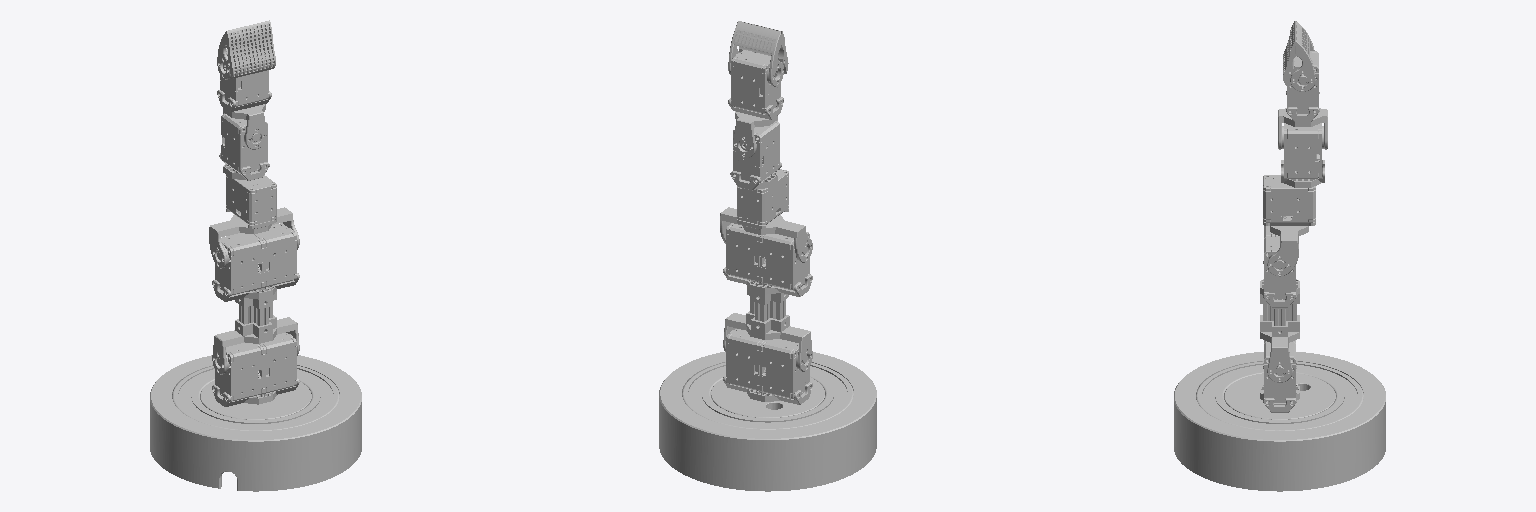
The robot description file, URDF, robot "clsrobo_63430":
<?xml version="1.0" ?>
<robot name="clsrobo_63430" xmlns:xacro="http://www.ros.org/wiki/xacro">

    <material name="silver">
        <color rgba="0.8 0.8 0.8 1.000"/>
    </material>

    <!-->Link Tags Go Here<-->
    
<link name="0_link">
        <inertial>
            <origin rpy="0 0 0" xyz="0.00003821186809 -0.00030983086283 0.01875604321375"/>
            <mass value="2.07110000000000"/>
            <inertia ixx="3.64188928305714" ixy="0.00000514769757" ixz="0.00000085409818" iyy="3.64187376134656" iyz="0.00000286492593" izz="0.01059796903767"/>
        </inertial>
        <visual>
            <origin rpy="0 0 0" xyz="0 0 0"/>
            <geometry>
                <mesh filename="package://clsrobo_63430_description/meshes/0_link.stl" scale="0.001 0.001 0.001"/>
            </geometry>
            <material name="silver"/>
        </visual>
        <collision>
            <origin rpy="0 0 0" xyz="0 0 0"/>
            <geometry>
                <mesh filename="package://clsrobo_63430_description/meshes/0_link.stl" scale="0.001 0.001 0.001"/>
            </geometry>
        </collision>
    </link>

<link name="1_link">
        <inertial>
            <origin rpy="0 0 0" xyz="0.00012843477802 -0.00014275664176 0.02077775078681"/>
            <mass value="0.22750000000000"/>
            <inertia ixx="0.00019717203900" ixy="-0.00000059205455" ixz="0.00000047245861" iyy="0.00024035701003" iyz="-0.00000052463206" izz="0.00022140776924"/>
        </inertial>
        <visual>
            <origin rpy="0 0 0" xyz="0 0 0"/>
            <geometry>
                <mesh filename="package://clsrobo_63430_description/meshes/1_link.stl" scale="0.001 0.001 0.001"/>
            </geometry>
            <material name="silver"/>
        </visual>
        <collision>
            <origin rpy="0 0 0" xyz="0 0 0"/>
            <geometry>
                <mesh filename="package://clsrobo_63430_description/meshes/1_link.stl" scale="0.001 0.001 0.001"/>
            </geometry>
        </collision>
    </link>

<link name="2_link">
        <inertial>
            <origin rpy="0 0 0" xyz="-0.00000682615862 0.00000000000000 0.07920366986365"/>
            <mass value="0.15775300000000"/>
            <inertia ixx="0.00013008037684" ixy="-0.00000000491200" ixz="-0.00000006213944" iyy="0.00017880546963" iyz="0.00000000000000" izz="0.00006939609280"/>
        </inertial>
        <visual>
            <origin rpy="0 0 0" xyz="0 0 0"/>
            <geometry>
                <mesh filename="package://clsrobo_63430_description/meshes/2_link.stl" scale="0.001 0.001 0.001"/>
            </geometry>
            <material name="silver"/>
        </visual>
        <collision>
            <origin rpy="0 0 0" xyz="0 0 0"/>
            <geometry>
                <mesh filename="package://clsrobo_63430_description/meshes/2_link.stl" scale="0.001 0.001 0.001"/>
            </geometry>
        </collision>
    </link>

<link name="3_link">
        <inertial>
            <origin rpy="0 0 0" xyz="0.00000000000000 0.00830129699094 0.04294565077099"/>
            <mass value="0.07075300000000"/>
            <inertia ixx="0.00002015791734" ixy="0.00000000642900" ixz="-0.00000033162500" iyy="0.00003354371692" iyz="-0.00000053753812" izz="0.00002236220043"/>
        </inertial>
        <visual>
            <origin rpy="0 0 0" xyz="0 0 0"/>
            <geometry>
                <mesh filename="package://clsrobo_63430_description/meshes/3_link.stl" scale="0.001 0.001 0.001"/>
            </geometry>
            <material name="silver"/>
        </visual>
        <collision>
            <origin rpy="0 0 0" xyz="0 0 0"/>
            <geometry>
                <mesh filename="package://clsrobo_63430_description/meshes/3_link.stl" scale="0.001 0.001 0.001"/>
            </geometry>
        </collision>
    </link>

<link name="4_link">
        <inertial>
            <origin rpy="0 0 0" xyz="0.00000000000000 0.00000000000000 0.02842285202155"/>
            <mass value="0.06198200000000"/>
            <inertia ixx="0.00001781079875" ixy="0.00000000881800" ixz="-0.00000006923300" iyy="0.00002019079875" iyz="-0.00000000773100" izz="0.00001068200000"/>
        </inertial>
        <visual>
            <origin rpy="0 0 0" xyz="0 0 0"/>
            <geometry>
                <mesh filename="package://clsrobo_63430_description/meshes/4_link.stl" scale="0.001 0.001 0.001"/>
            </geometry>
            <material name="silver"/>
        </visual>
        <collision>
            <origin rpy="0 0 0" xyz="0 0 0"/>
            <geometry>
                <mesh filename="package://clsrobo_63430_description/meshes/4_link.stl" scale="0.001 0.001 0.001"/>
            </geometry>
        </collision>
    </link>

<link name="5_link">
        <inertial>
            <origin rpy="0 0 0" xyz="0.00000000000000 0.00000000000000 0.04933966276832"/>
            <mass value="0.07327900000000"/>
            <inertia ixx="0.00002687621404" ixy="0.00000000881800" ixz="-0.00000006923300" iyy="0.00003064621404" iyz="-0.00000000773100" izz="0.00001252300000"/>
        </inertial>
        <visual>
            <origin rpy="0 0 0" xyz="0 0 0"/>
            <geometry>
                <mesh filename="package://clsrobo_63430_description/meshes/5_link.stl" scale="0.001 0.001 0.001"/>
            </geometry>
            <material name="silver"/>
        </visual>
        <collision>
            <origin rpy="0 0 0" xyz="0 0 0"/>
            <geometry>
                <mesh filename="package://clsrobo_63430_description/meshes/5_link.stl" scale="0.001 0.001 0.001"/>
            </geometry>
        </collision>
    </link>

<link name="6_link">
        <inertial>
            <origin rpy="0 0 0" xyz="0.00000000000000 0.00000000000000 0.01800000000000"/>
            <mass value="0.00716000000000"/>
            <inertia ixx="0.00000123800000" ixy="-0.00000000020200" ixz="-0.00000000016500" iyy="0.00000283900000" iyz="0.00000012121400" izz="0.00000187100000"/>
        </inertial>
        <visual>
            <origin rpy="0 0 0" xyz="0 0 0"/>
            <geometry>
                <mesh filename="package://clsrobo_63430_description/meshes/6_link.stl" scale="0.001 0.001 0.001"/>
            </geometry>
            <material name="silver"/>
        </visual>
        <collision>
            <origin rpy="0 0 0" xyz="0 0 0"/>
            <geometry>
                <mesh filename="package://clsrobo_63430_description/meshes/6_link.stl" scale="0.001 0.001 0.001"/>
            </geometry>
        </collision>
    </link>


    <!-->Joint Tags Go Here<-->
    
<joint name="joint_0" type="revolute">
        <origin rpy="0 0 0" xyz="0.00000000000000 0.00000000000000 0.04100000000000"/>
        <limit effort="1000.0" lower="-3.14" upper="3.14" velocity="1.0"/>
        <parent link="0_link"/>
        <child link="1_link"/>
        <axis xyz="0.00000000000000 0.00000000000000 1.00000000000000"/>
</joint>


<joint name="joint_1" type="revolute">
        <origin rpy="0 0 0" xyz="0.00000000000000 0.00000000000000 0.05098200000000"/>
        <limit effort="1000.0" lower="-1.57" upper="1.57" velocity="1.0"/>
        <parent link="1_link"/>
        <child link="2_link"/>
        <axis xyz="1.00000000000000 0.00000000000000 0.00000000000000"/>
</joint>


<joint name="joint_2" type="revolute">
        <origin rpy="0 0 0" xyz="0.00000000000000 0.00000000000000 0.10475000000000"/>
        <limit effort="1000.0" lower="-1.57" upper="1.57" velocity="1.0"/>
        <parent link="2_link"/>
        <child link="3_link"/>
        <axis xyz="1.00000000000000 0.00000000000000 0.00000000000000"/>
</joint>


<joint name="joint_3" type="revolute">
        <origin rpy="0 0 0" xyz="0.00000000000000 0.02047400000000 0.06650000000000"/>
        <limit effort="1000.0" lower="-3.14" upper="3.14" velocity="1.0"/>
        <parent link="3_link"/>
        <child link="4_link"/>
        <axis xyz="0.00000000000000 0.00000000000000 1.00000000000000"/>
</joint>


<joint name="joint_4" type="revolute">
        <origin rpy="0 0 0" xyz="0.00000000000000 -0.00000000000000 0.04175000000000"/>
        <limit effort="1000.0" lower="-1.57" upper="1.57" velocity="1.0"/>
        <parent link="4_link"/>
        <child link="5_link"/>
        <axis xyz="-0.00000000000000 -1.00000000000000 0.00000000000000"/>
</joint>


<joint name="joint_5" type="revolute">
        <origin rpy="0 0 0" xyz="0.00000000000000 -0.00000000000000 0.06575000000000"/>
        <limit effort="1000.0" lower="-1.57" upper="0" velocity="1.0"/>
        <parent link="5_link"/>
        <child link="6_link"/>
        <axis xyz="1.00000000000000 -0.00000000000000 0.00000000000000"/>
</joint>



    <!--Transmissions go here -->
    
<transmission name="joint_0_tran">
  <type>transmission_interface/SimpleTransmission</type>
  <joint name="joint_0">
    <hardwareInterface>hardware_interface/EffortJointInterface</hardwareInterface>
  </joint>
  <actuator name="joint_0_actr">
    <hardwareInterface>hardware_interface/EffortJointInterface</hardwareInterface>
    <mechanicalReduction>1</mechanicalReduction>
  </actuator>
</transmission>


<transmission name="joint_1_tran">
  <type>transmission_interface/SimpleTransmission</type>
  <joint name="joint_1">
    <hardwareInterface>hardware_interface/EffortJointInterface</hardwareInterface>
  </joint>
  <actuator name="joint_1_actr">
    <hardwareInterface>hardware_interface/EffortJointInterface</hardwareInterface>
    <mechanicalReduction>1</mechanicalReduction>
  </actuator>
</transmission>


<transmission name="joint_2_tran">
  <type>transmission_interface/SimpleTransmission</type>
  <joint name="joint_2">
    <hardwareInterface>hardware_interface/EffortJointInterface</hardwareInterface>
  </joint>
  <actuator name="joint_2_actr">
    <hardwareInterface>hardware_interface/EffortJointInterface</hardwareInterface>
    <mechanicalReduction>1</mechanicalReduction>
  </actuator>
</transmission>


<transmission name="joint_3_tran">
  <type>transmission_interface/SimpleTransmission</type>
  <joint name="joint_3">
    <hardwareInterface>hardware_interface/EffortJointInterface</hardwareInterface>
  </joint>
  <actuator name="joint_3_actr">
    <hardwareInterface>hardware_interface/EffortJointInterface</hardwareInterface>
    <mechanicalReduction>1</mechanicalReduction>
  </actuator>
</transmission>


<transmission name="joint_4_tran">
  <type>transmission_interface/SimpleTransmission</type>
  <joint name="joint_4">
    <hardwareInterface>hardware_interface/EffortJointInterface</hardwareInterface>
  </joint>
  <actuator name="joint_4_actr">
    <hardwareInterface>hardware_interface/EffortJointInterface</hardwareInterface>
    <mechanicalReduction>1</mechanicalReduction>
  </actuator>
</transmission>


<transmission name="joint_5_tran">
  <type>transmission_interface/SimpleTransmission</type>
  <joint name="joint_5">
    <hardwareInterface>hardware_interface/EffortJointInterface</hardwareInterface>
  </joint>
  <actuator name="joint_5_actr">
    <hardwareInterface>hardware_interface/EffortJointInterface</hardwareInterface>
    <mechanicalReduction>1</mechanicalReduction>
  </actuator>
</transmission>




<gazebo>
    <plugin filename="libgazebo_ros_control.so" name="control"/>
</gazebo>

<gazebo reference="0_link">
    <material>Gazebo/Silver</material>
    <mu1>0.2</mu1>
    <mu2>0.2</mu2>
    <selfCollide>true</selfCollide>
    <gravity>true</gravity>
</gazebo>

    
<gazebo reference="1_link">
        <material>Gazebo/Green</material>
        <mu1>0.2</mu1>
        <mu2>0.2</mu2>
        <selfCollide>true</selfCollide>
</gazebo>


<gazebo reference="2_link">
        <material>Gazebo/Green</material>
        <mu1>0.2</mu1>
        <mu2>0.2</mu2>
        <selfCollide>true</selfCollide>
</gazebo>


<gazebo reference="3_link">
        <material>Gazebo/Green</material>
        <mu1>0.2</mu1>
        <mu2>0.2</mu2>
        <selfCollide>true</selfCollide>
</gazebo>


<gazebo reference="4_link">
        <material>Gazebo/Green</material>
        <mu1>0.2</mu1>
        <mu2>0.2</mu2>
        <selfCollide>true</selfCollide>
</gazebo>


<gazebo reference="5_link">
        <material>Gazebo/Green</material>
        <mu1>0.2</mu1>
        <mu2>0.2</mu2>
        <selfCollide>true</selfCollide>
</gazebo>


<gazebo reference="6_link">
        <material>Gazebo/Green</material>
        <mu1>0.2</mu1>
        <mu2>0.2</mu2>
        <selfCollide>true</selfCollide>
</gazebo>



</robot>

--- Render facts (derived) ---
The picture shows the robot from 3 angles, left to right: view 1: azimuth 30°, elevation 25°; view 2: azimuth 150°, elevation 25°; view 3: azimuth 270°, elevation 25°; orthographic projection.
Model clsrobo_63430 with 7 links and 6 joints (6 revolute), rooted at 0_link, posed every joint at zero.
Visible links, largest first — view 1: 0_link, 2_link, 1_link, 5_link, 3_link, 4_link; view 2: 0_link, 2_link, 1_link, 5_link, 3_link, 4_link, 6_link; view 3: 0_link, 1_link, 2_link, 3_link, 5_link, 4_link, 6_link.
Boxes of the visible links, x1,y1,x2,y2 form: 0_link: [150, 355, 361, 491]; 2_link: [212, 223, 299, 374]; 1_link: [200, 333, 311, 419]; 5_link: [217, 20, 275, 149]; 3_link: [209, 175, 299, 268]; 4_link: [219, 114, 269, 180]; 0_link: [659, 352, 876, 491]; 2_link: [723, 223, 812, 371]; 1_link: [711, 329, 824, 417]; 5_link: [728, 21, 788, 157]; 3_link: [720, 169, 812, 262]; 4_link: [730, 121, 781, 190]; 6_link: [728, 21, 783, 86]; 0_link: [1174, 352, 1385, 491]; 1_link: [1224, 340, 1335, 419]; 2_link: [1260, 226, 1299, 382]; 3_link: [1263, 175, 1315, 276]; 5_link: [1278, 21, 1327, 149]; 4_link: [1281, 123, 1324, 187]; 6_link: [1290, 21, 1315, 91].
Size in the robot's own frame: 0.19 by 0.19 by 0.4096 metres.
Meshes: 7 distinct files referenced, 7 mesh visuals loaded (7 binary STL).
